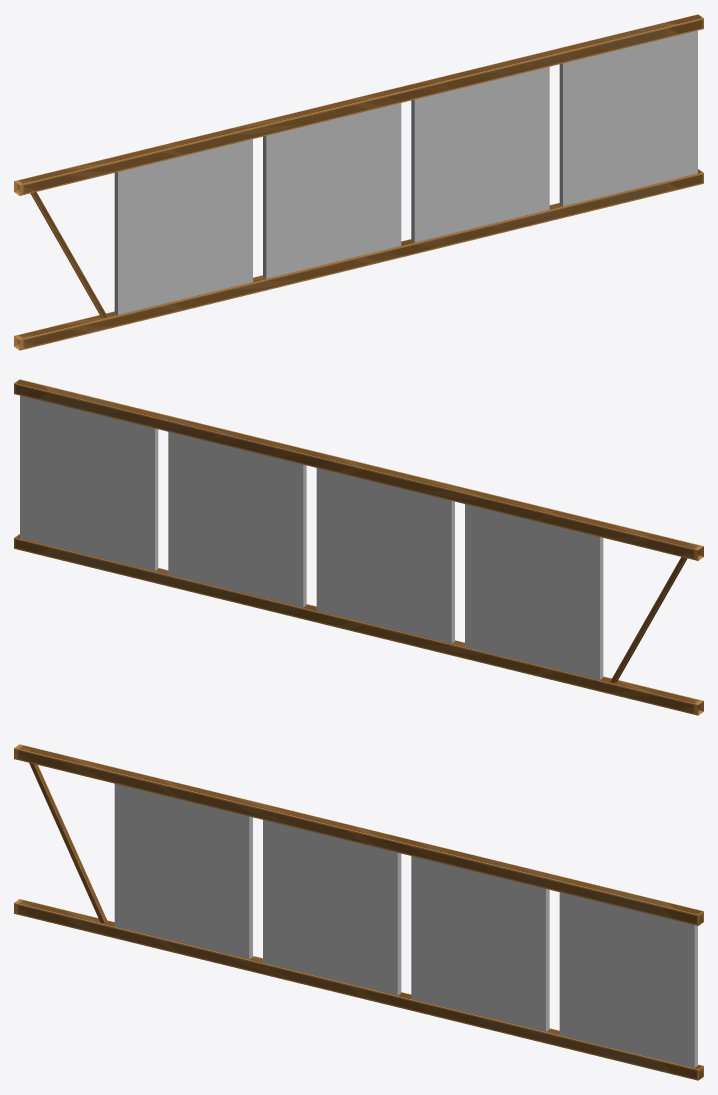
File: jiedao_BJ_030.fbx
3 renders of one model, top to bottom at view 1: azimuth 30°, elevation 25°; view 2: azimuth 150°, elevation 25°; view 3: azimuth 330°, elevation 25°, orthographic.
Visible parts, largest first — view 1: BJ030; view 2: BJ030; view 3: BJ030.
Boxes of the visible parts, box(x1,y1,x2,y2) form: BJ030: box(14, 14, 703, 350); BJ030: box(14, 379, 703, 715); BJ030: box(14, 744, 703, 1080).
Bounding box in the file's own units: 336 × 4.82 × 77.65.
